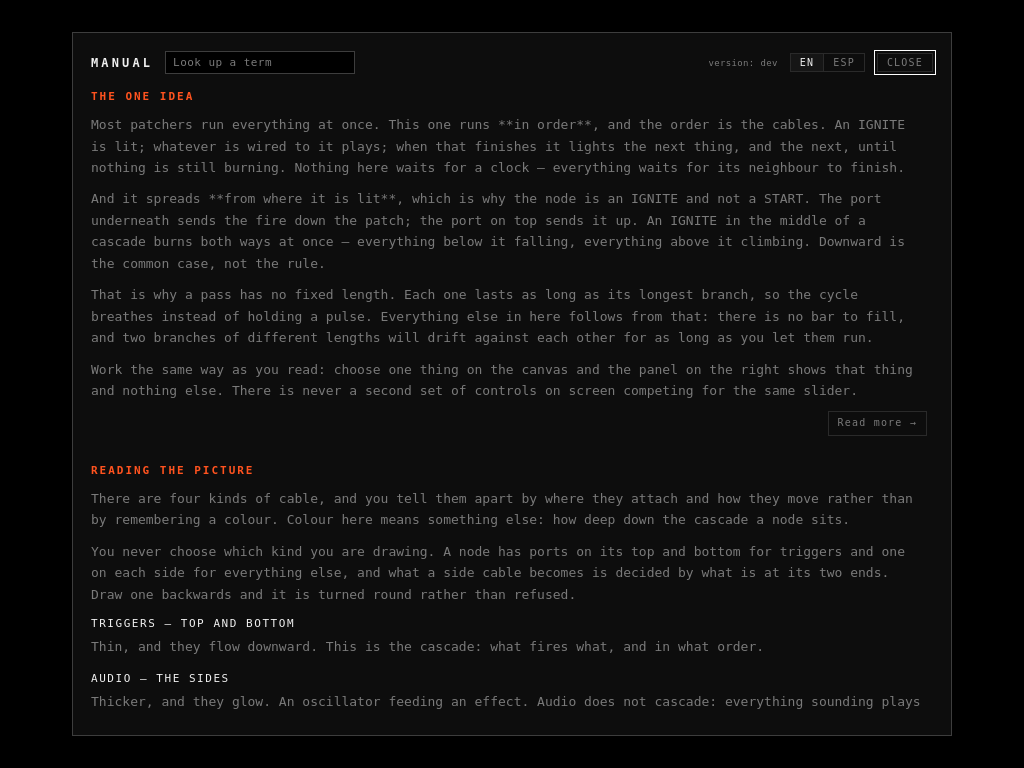
searching the manual › answers a term with that term
This screenshot has width=1024, height=768.
In the search field named "Search the manual": coordinates (260, 62) x1=165 y1=51 x2=355 y2=74, type "reps"
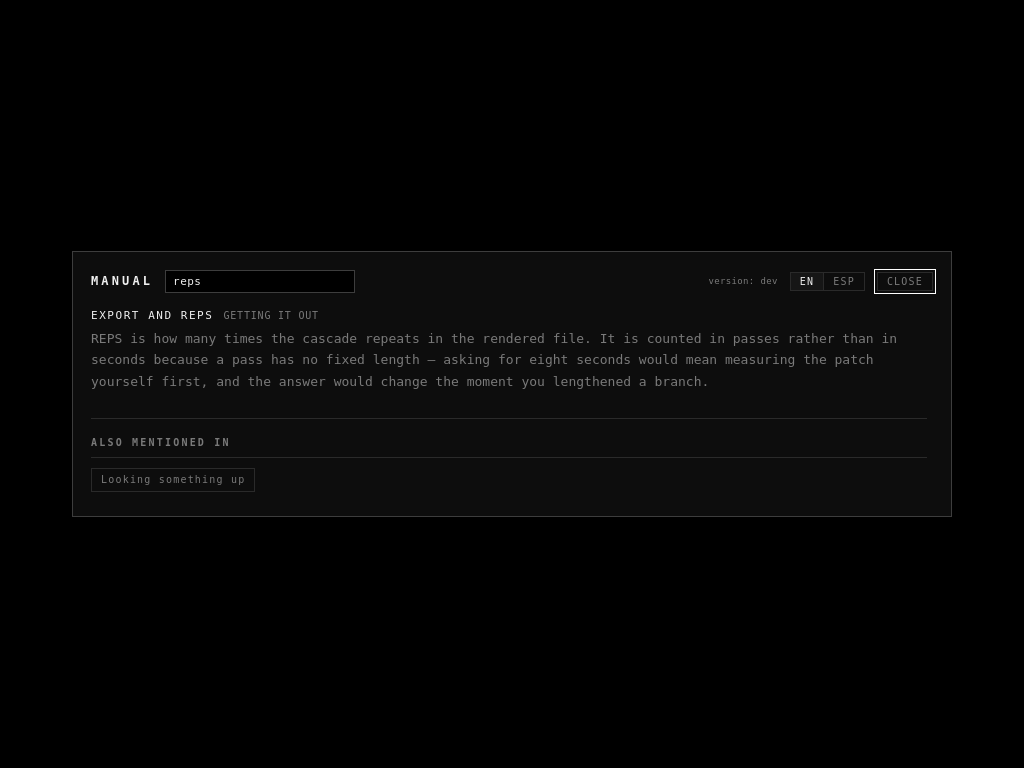
Expected: the text "EXPORT and REPS" is shown, x1=91 y1=309 x2=214 y2=322
Expected: the text "how many times the cascade repeats" is shown, x1=91 y1=331 x2=897 y2=389
